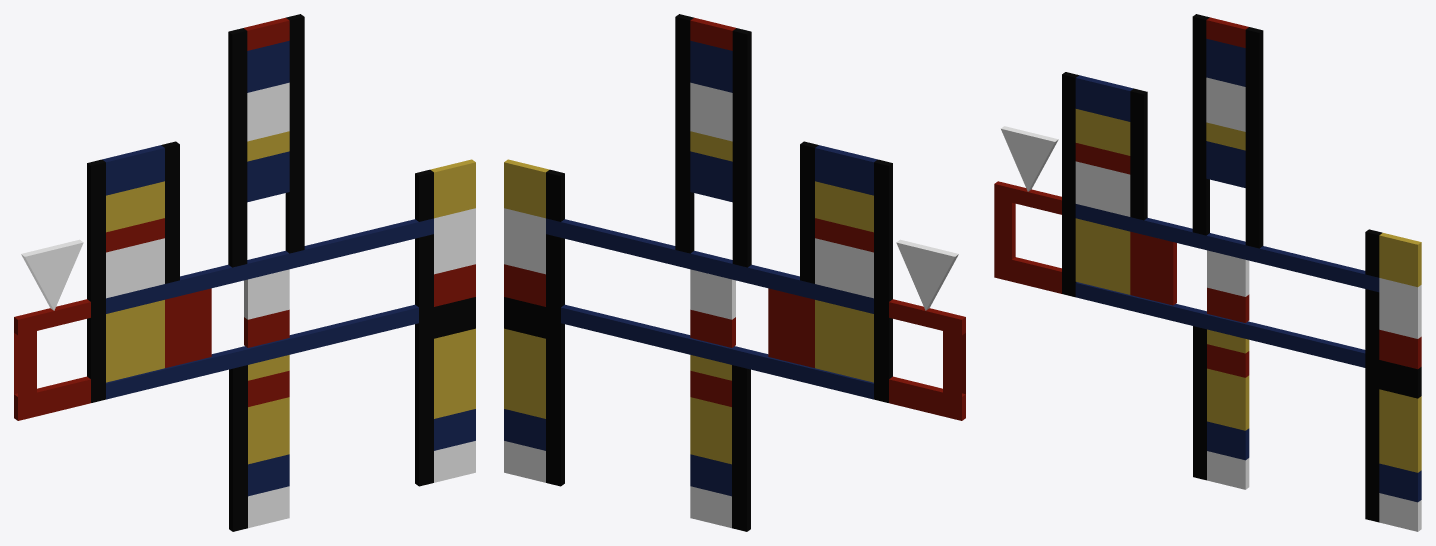
The model's file is rot_fence_boogie.gltf.
3 views of the same model, side by side, from view 1: azimuth 30°, elevation 25°; view 2: azimuth 150°, elevation 25°; view 3: azimuth 330°, elevation 25° (orthographic). The views are drawn at different scales.
Parts seen in each view (by area): view 1: rot.fence.boogie; view 2: rot.fence.boogie; view 3: rot.fence.boogie.
Boxes of the visible parts, bbox=[...] form: rot.fence.boogie: bbox=[14, 14, 475, 531]; rot.fence.boogie: bbox=[504, 14, 965, 531]; rot.fence.boogie: bbox=[994, 14, 1421, 531].
Bounding box in the file's own units: 23.33 × 24.22 × 0.35.
